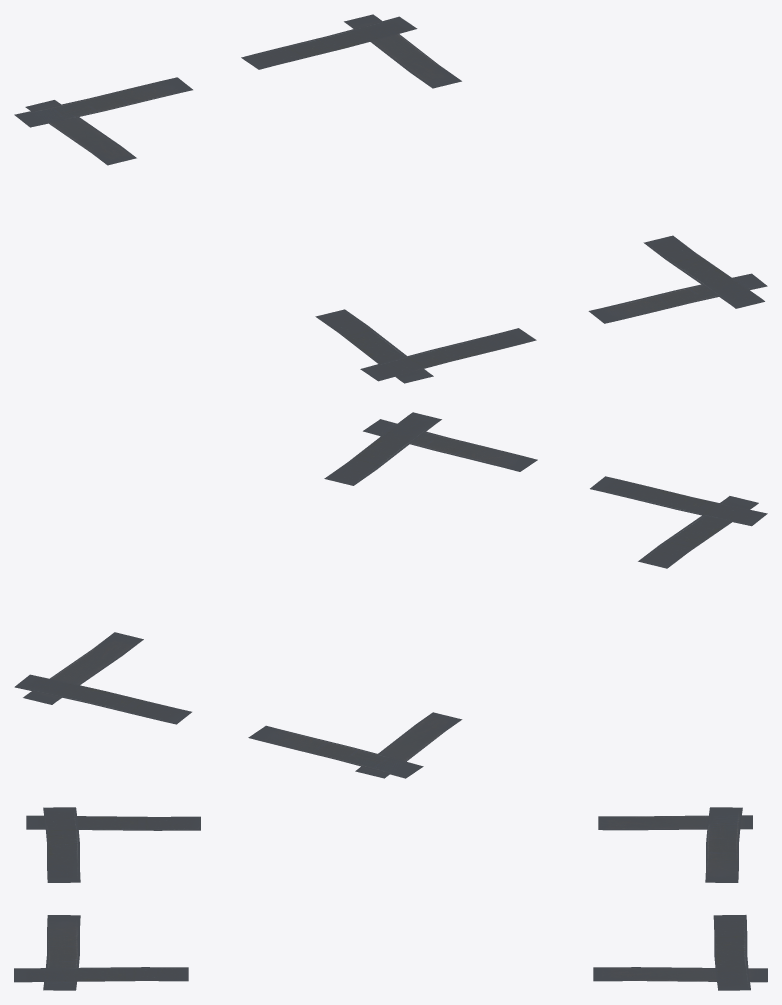
File: SM_Decal_TapeSquare_A.fbx
3 renders of one model, top to bottom at view 1: azimuth 30°, elevation 25°; view 2: azimuth 150°, elevation 25°; view 3: azimuth 270°, elevation 25°, orthographic. The views are drawn at different scales.
Parts seen in each view (by area): view 1: SM_Decal_TapeSquare_A_LOD0; view 2: SM_Decal_TapeSquare_A_LOD0; view 3: SM_Decal_TapeSquare_A_LOD0.
Part boxes in pixels (<box>): SM_Decal_TapeSquare_A_LOD0: <box>14,14,767,383</box>; SM_Decal_TapeSquare_A_LOD0: <box>14,412,767,778</box>; SM_Decal_TapeSquare_A_LOD0: <box>14,807,767,990</box>.
Size of the model in its own units: 129 by 224 by 0.00441.
1 material, 1 textured.
